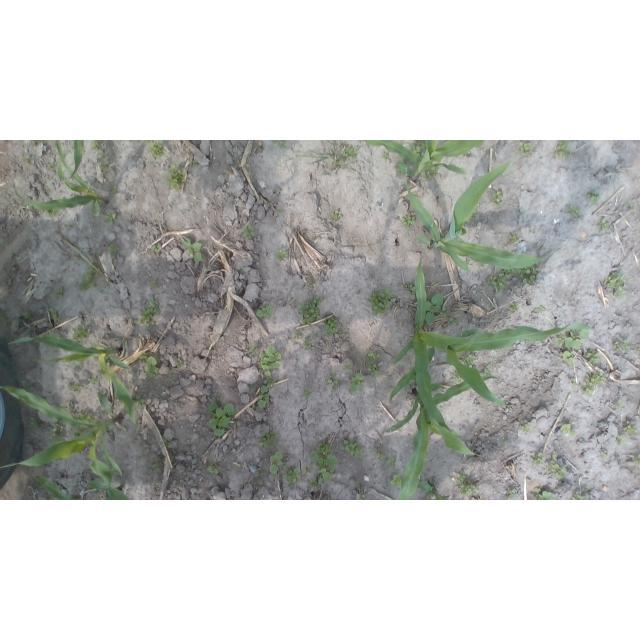Maize: (395, 253, 593, 428), (401, 161, 550, 270), (0, 383, 124, 500), (385, 374, 500, 500), (8, 334, 140, 426), (10, 140, 108, 218), (363, 140, 483, 184), (33, 472, 130, 500), (414, 479, 449, 500), (69, 141, 84, 178)
Weeds: (310, 441, 340, 483), (208, 397, 236, 438), (135, 295, 161, 327), (298, 296, 322, 328), (257, 347, 281, 377), (370, 288, 395, 315), (582, 371, 606, 398), (78, 265, 102, 291), (257, 377, 276, 409), (425, 293, 443, 325), (183, 236, 204, 263), (167, 164, 187, 192), (455, 472, 477, 497), (139, 354, 161, 379), (341, 439, 365, 458), (257, 428, 281, 447), (485, 273, 507, 293), (521, 263, 540, 285), (607, 271, 630, 289), (269, 451, 285, 475), (144, 140, 165, 158), (546, 463, 567, 480), (71, 324, 90, 341), (49, 424, 66, 443), (410, 141, 427, 160), (323, 315, 339, 335), (255, 304, 275, 320), (556, 140, 571, 160), (351, 373, 365, 394), (584, 349, 601, 366), (615, 340, 634, 355), (74, 410, 97, 422), (285, 468, 302, 484), (463, 349, 477, 368), (534, 486, 553, 500), (564, 336, 581, 350), (424, 166, 441, 180), (390, 471, 403, 489), (342, 147, 358, 161), (490, 189, 503, 206), (613, 284, 627, 299), (131, 395, 145, 410), (587, 189, 601, 204), (567, 203, 582, 217), (402, 214, 417, 228), (560, 424, 576, 437), (49, 308, 62, 323), (104, 211, 117, 226), (243, 225, 256, 240), (367, 350, 383, 362), (519, 141, 532, 155), (562, 351, 574, 366), (368, 364, 381, 377), (624, 422, 637, 435), (599, 217, 610, 232), (404, 283, 416, 296), (107, 244, 120, 256), (74, 427, 89, 437), (501, 267, 519, 275), (330, 208, 342, 220), (376, 448, 387, 461), (276, 249, 289, 260), (31, 418, 42, 430), (508, 301, 520, 312), (507, 233, 519, 244), (536, 451, 545, 465), (616, 435, 627, 446), (483, 364, 493, 376), (520, 421, 532, 431), (507, 487, 517, 499), (89, 140, 101, 150), (71, 384, 84, 393), (308, 478, 319, 488), (155, 459, 166, 469), (327, 372, 336, 384), (47, 209, 59, 218), (207, 465, 219, 474), (574, 492, 587, 500), (92, 375, 101, 386), (332, 380, 341, 391), (556, 334, 565, 345), (151, 244, 162, 253), (448, 319, 461, 326), (442, 307, 451, 317), (59, 404, 69, 413), (150, 280, 160, 289), (248, 347, 256, 358), (428, 492, 437, 501), (23, 312, 33, 320), (0, 314, 8, 324), (635, 453, 640, 469), (551, 451, 559, 461), (534, 307, 547, 313), (109, 187, 120, 194), (99, 155, 104, 170), (55, 291, 63, 300), (388, 459, 397, 467), (177, 358, 183, 369), (304, 390, 312, 398), (163, 439, 171, 447), (344, 363, 352, 371), (304, 341, 312, 348), (572, 378, 577, 389), (192, 159, 200, 165), (294, 331, 300, 339), (618, 399, 623, 408), (306, 467, 312, 473), (450, 376, 457, 381), (48, 164, 53, 171), (275, 141, 281, 146), (382, 153, 388, 158), (168, 368, 173, 372)
